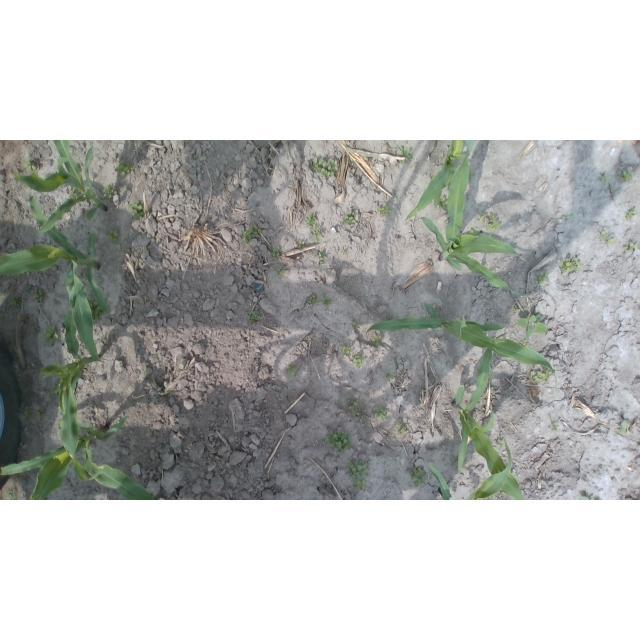Maize: (1, 366, 156, 500), (1, 195, 112, 365), (422, 141, 523, 298), (367, 303, 557, 386), (38, 287, 102, 483), (453, 348, 528, 501), (17, 140, 108, 234), (428, 437, 512, 500), (405, 141, 467, 222)
Weeds: (518, 313, 549, 339), (325, 430, 352, 452), (311, 158, 337, 177), (481, 213, 502, 234), (242, 224, 263, 244), (348, 459, 369, 478), (127, 199, 145, 219), (88, 300, 103, 324), (410, 467, 428, 487), (560, 258, 582, 274), (531, 369, 554, 384), (397, 146, 414, 164), (114, 161, 132, 177), (43, 326, 59, 343), (103, 184, 118, 201), (599, 230, 617, 244), (352, 478, 368, 492), (8, 295, 22, 310), (372, 408, 388, 421), (23, 159, 37, 173), (342, 212, 357, 225), (536, 272, 549, 287), (377, 204, 392, 216), (107, 229, 119, 244), (247, 311, 261, 323), (312, 226, 322, 242), (352, 356, 364, 369), (371, 332, 382, 346), (306, 212, 316, 227), (623, 242, 638, 252), (397, 423, 408, 436), (349, 399, 359, 413), (439, 196, 448, 211), (620, 420, 629, 435), (287, 366, 297, 379), (620, 171, 633, 181), (561, 213, 577, 221), (601, 174, 612, 185), (34, 291, 46, 301), (322, 296, 332, 308), (69, 187, 80, 197), (626, 209, 637, 219), (51, 384, 60, 396), (308, 294, 320, 303), (7, 489, 16, 500), (552, 422, 561, 433), (343, 346, 352, 356), (272, 247, 280, 258), (35, 412, 44, 421), (495, 439, 504, 448), (275, 268, 285, 276), (469, 228, 479, 236), (387, 372, 397, 380), (580, 496, 595, 501), (318, 252, 325, 261), (520, 343, 529, 350), (352, 322, 360, 329), (24, 413, 30, 420), (359, 412, 365, 418), (299, 241, 304, 248), (485, 496, 493, 500), (513, 308, 519, 313), (340, 248, 344, 253), (456, 460, 458, 464)
